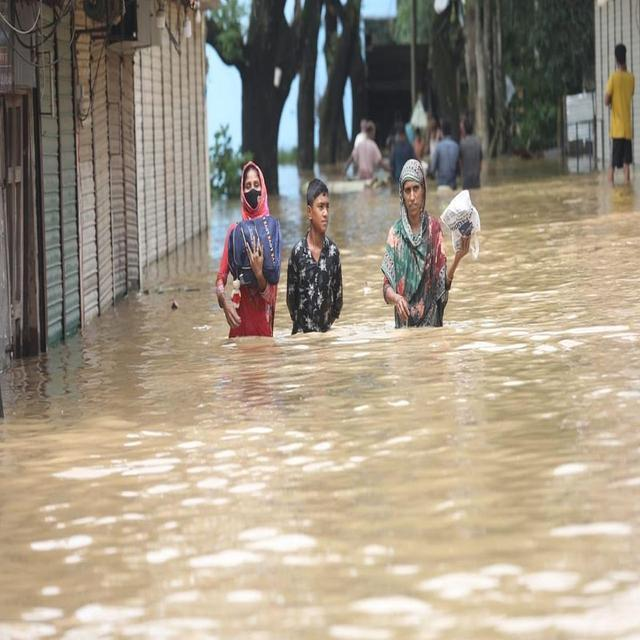Person-RiskLevel2: (591, 38, 637, 190)
Person-RiskLevel3: (373, 151, 485, 331), (209, 150, 286, 341), (288, 173, 360, 337)
